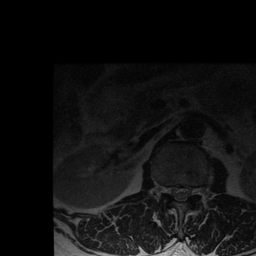CCS_normal: (177, 181, 184, 206)
LFS_normal: (191, 180, 199, 200)
LLS_normal: (184, 180, 190, 204)
RFS_normal: (161, 180, 170, 200)
RLS_normal: (170, 180, 177, 202)
